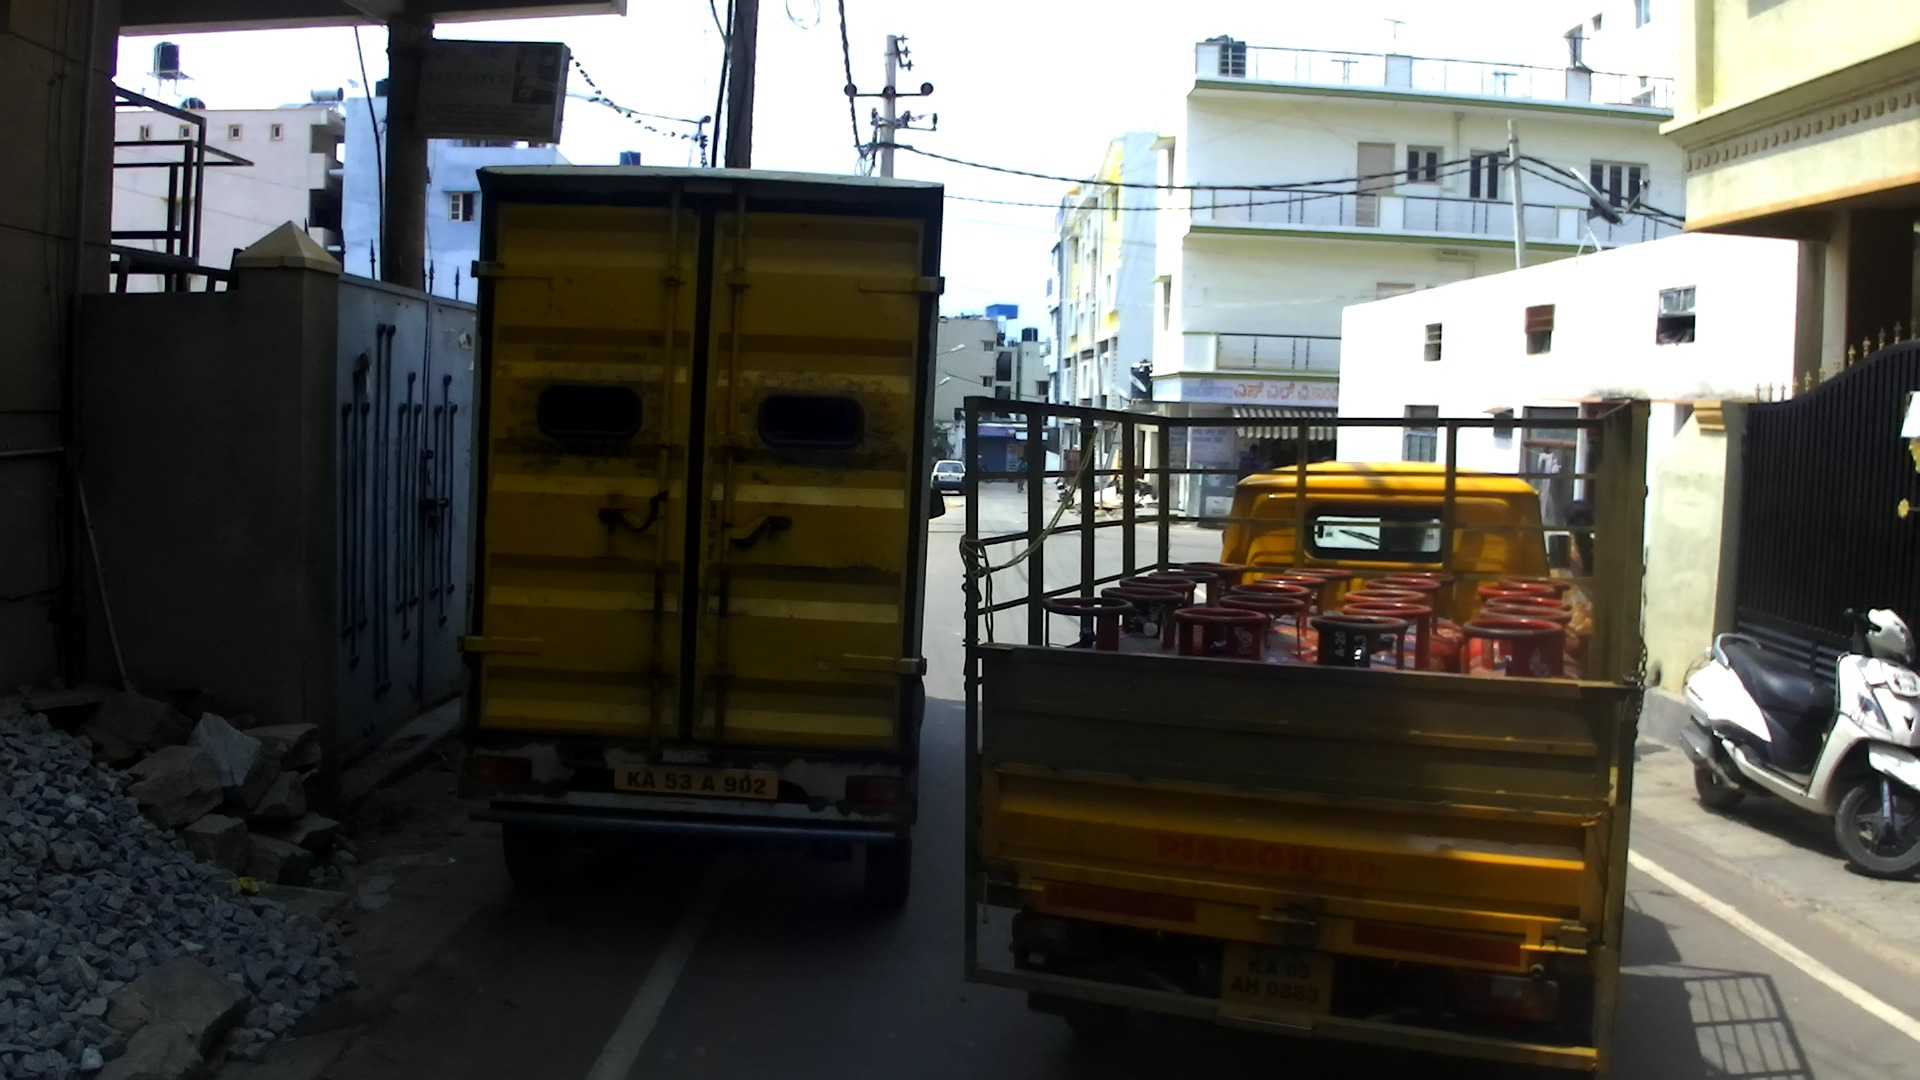autorickshaw: (961, 393, 1651, 1079)
car: (931, 458, 971, 491)
motorcycle: (1683, 611, 1920, 876)
truck: (459, 165, 945, 914)
